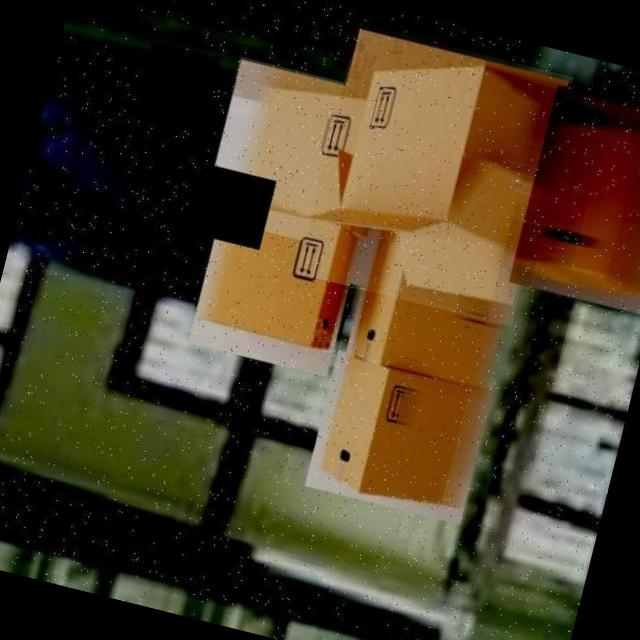box: (296, 23, 574, 326), (201, 57, 386, 251), (185, 190, 369, 380), (302, 347, 497, 526), (340, 215, 523, 402), (508, 82, 640, 315)
